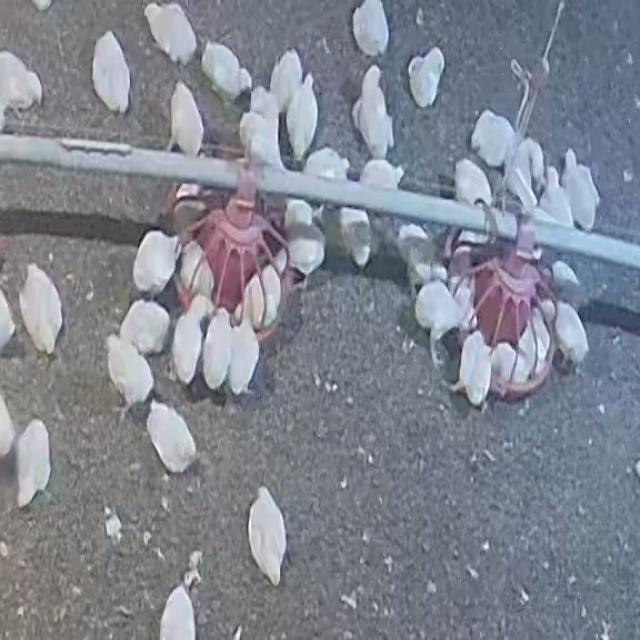chicken: (351, 67, 400, 155), (540, 299, 595, 376), (17, 265, 63, 356), (104, 333, 154, 416), (246, 487, 286, 586), (137, 2, 196, 67), (146, 400, 196, 476), (285, 200, 332, 280), (391, 219, 449, 282), (89, 31, 133, 113), (15, 419, 53, 509), (131, 229, 181, 296), (447, 333, 492, 407), (170, 297, 208, 384), (410, 288, 466, 346), (200, 41, 251, 104), (242, 89, 280, 173), (118, 299, 171, 359), (234, 264, 282, 328), (0, 54, 46, 120), (340, 195, 380, 268), (564, 147, 598, 230), (471, 110, 519, 167), (167, 80, 202, 157), (287, 77, 319, 159), (228, 312, 259, 396), (202, 308, 233, 391), (405, 48, 447, 108), (543, 165, 576, 234), (353, 0, 392, 57), (504, 143, 545, 197), (160, 586, 197, 639), (275, 54, 307, 110), (303, 149, 351, 186), (458, 159, 491, 207), (526, 314, 550, 373), (359, 163, 408, 190), (494, 344, 527, 384), (191, 251, 215, 301), (351, 96, 367, 148)
